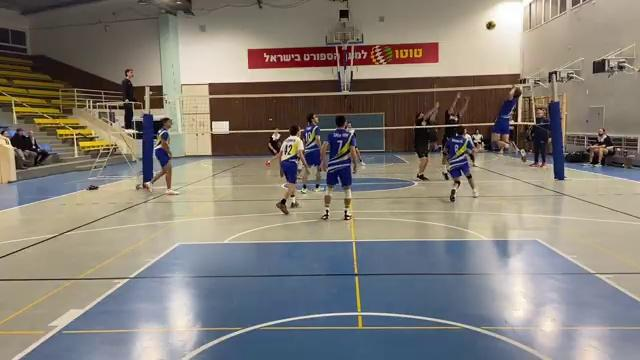ball: (486, 19, 497, 32)
